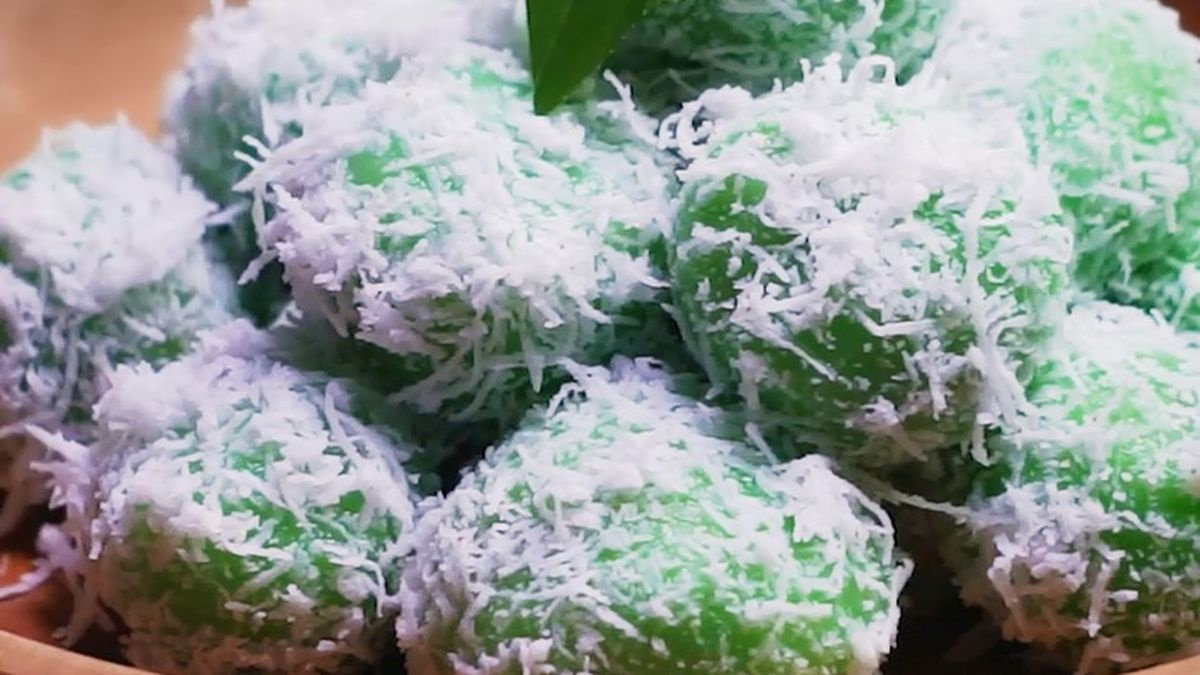klepon: (631, 75, 992, 433)
